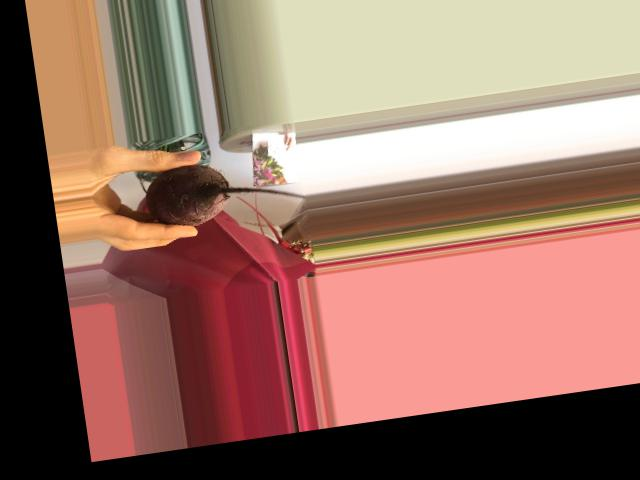beet: (140, 149, 309, 232)
